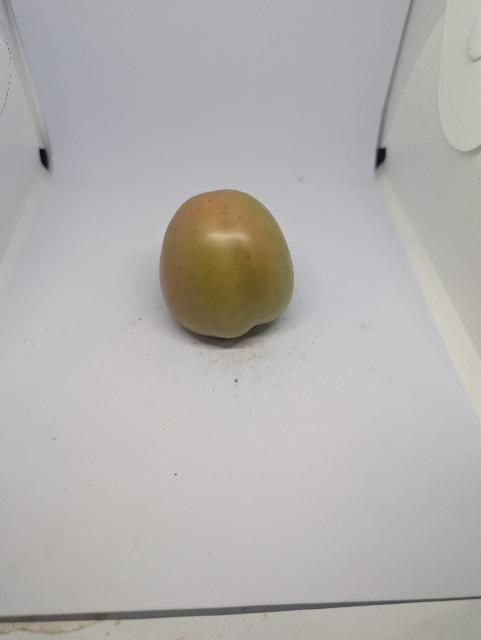breaker: (160, 190, 294, 338)
